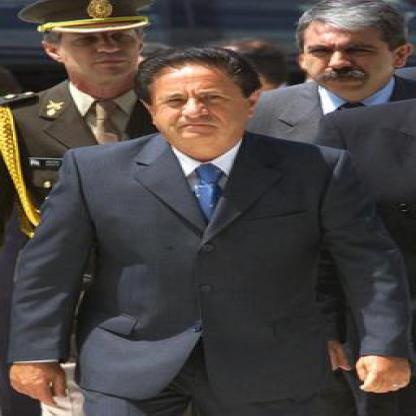face: (149, 52, 250, 150), (300, 11, 398, 95), (59, 2, 148, 81)
